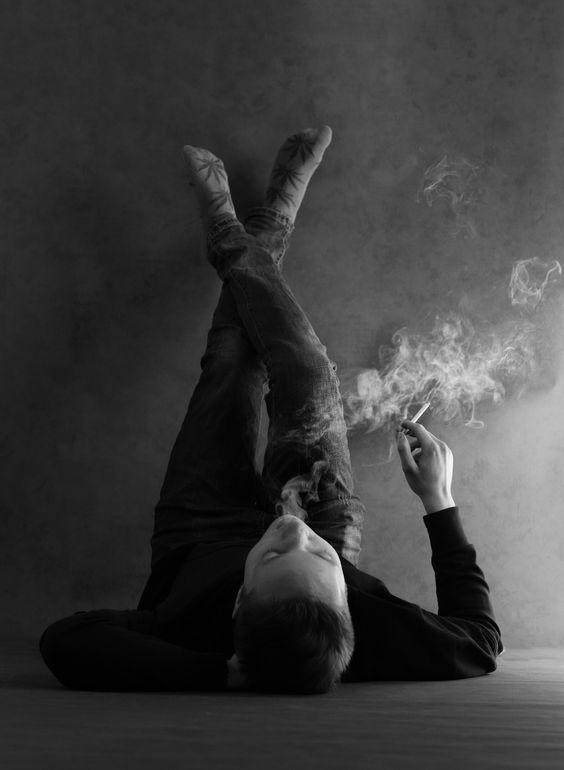cigarette: (402, 402, 430, 435)
